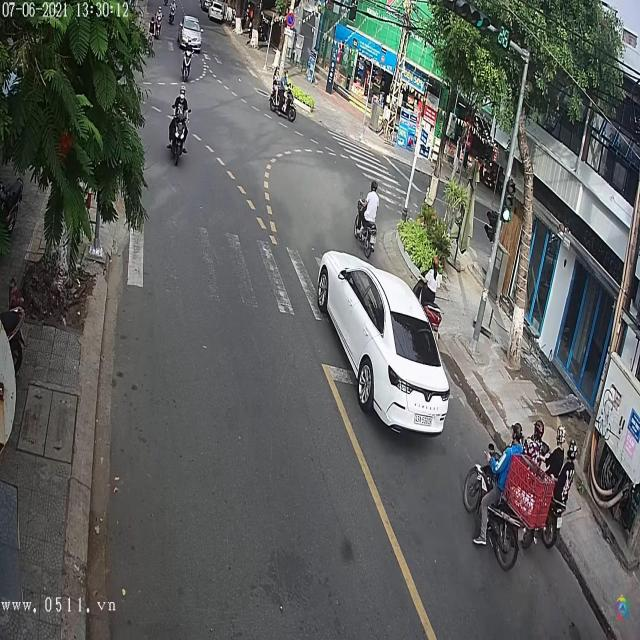car: (317, 250, 452, 436), (178, 8, 206, 56)
motorcycle: (456, 443, 530, 572), (351, 192, 382, 263), (270, 77, 298, 122), (168, 111, 190, 162), (181, 50, 195, 80)
